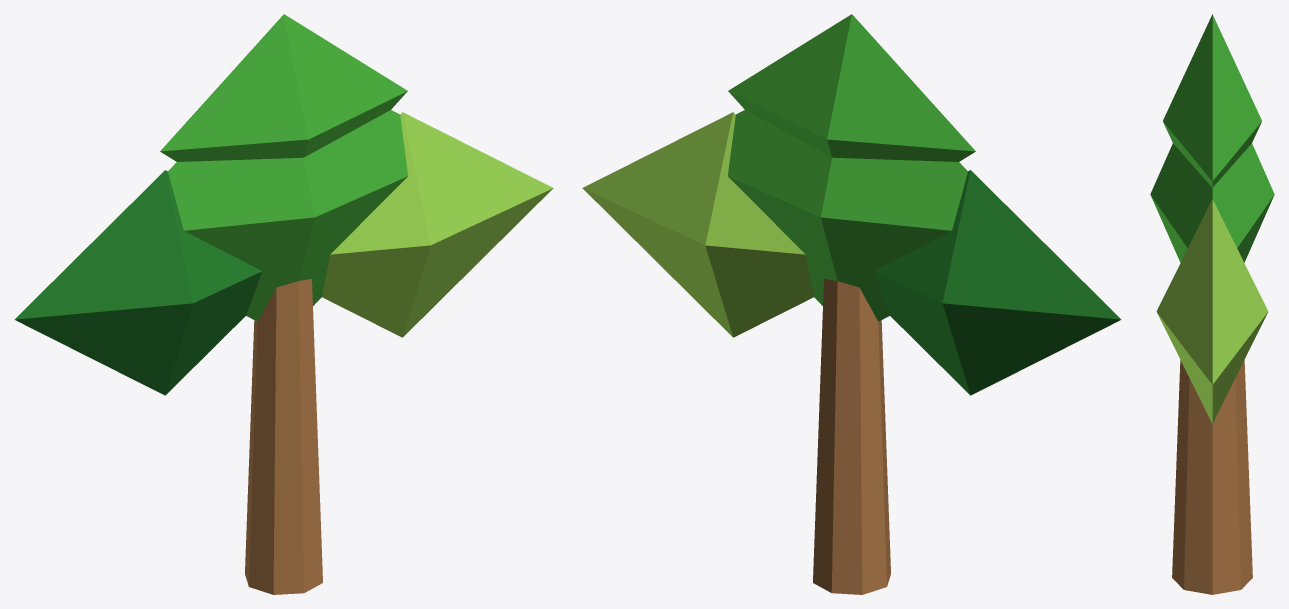
Rendered from background_tree_new.obj.
3 renders of one model, left to right at view 1: azimuth 30°, elevation 25°; view 2: azimuth 150°, elevation 25°; view 3: azimuth 270°, elevation 25°, orthographic.
Visible parts, largest first — view 1: BackgroundTree; view 2: BackgroundTree; view 3: BackgroundTree.
Part boxes in pixels (left/top/right/bottom): BackgroundTree: left=14, top=14, right=553, bottom=594; BackgroundTree: left=582, top=14, right=1121, bottom=594; BackgroundTree: left=1150, top=14, right=1274, bottom=594.
Bounding box in the file's own units: 1 × 1 × 0.2.
4 materials, 4 textured.
